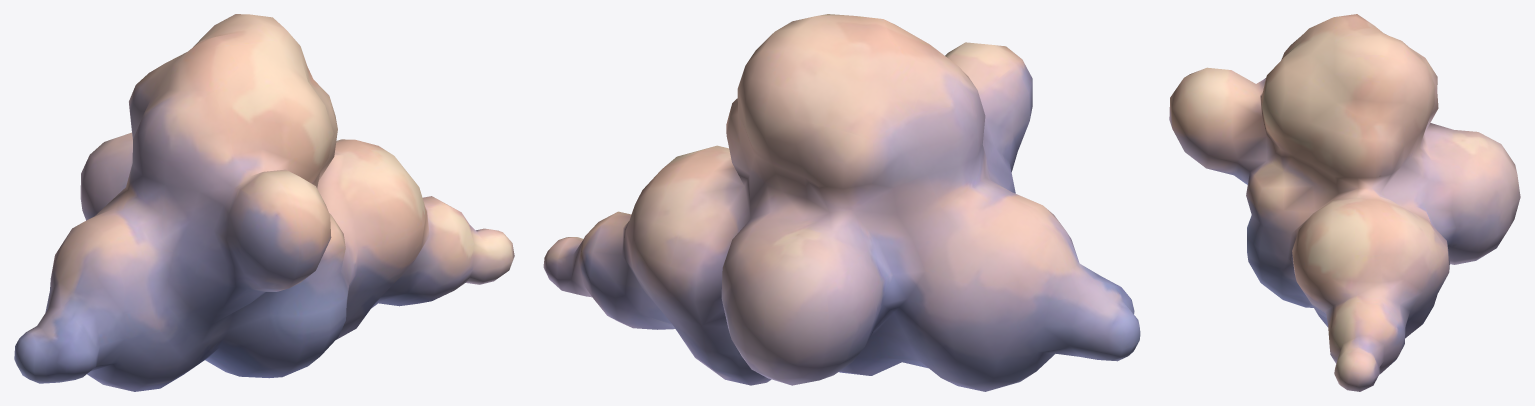
File: SM_Cloud_01.fbx
3 views of the same model, side by side, from view 1: azimuth 30°, elevation 25°; view 2: azimuth 150°, elevation 25°; view 3: azimuth 270°, elevation 25° (orthographic). The views are drawn at different scales.
Visible parts, largest first — view 1: SM_Cloud_01; view 2: SM_Cloud_01; view 3: SM_Cloud_01.
Boxes of the visible parts, x1=… form: SM_Cloud_01: x1=14, y1=14, x2=514, y2=391; SM_Cloud_01: x1=543, y1=14, x2=1140, y2=391; SM_Cloud_01: x1=1169, y1=14, x2=1520, y2=391.
Size of the model in its own units: 118 by 73.68 by 81.71.
Materials: 1 (1 with a texture image).
